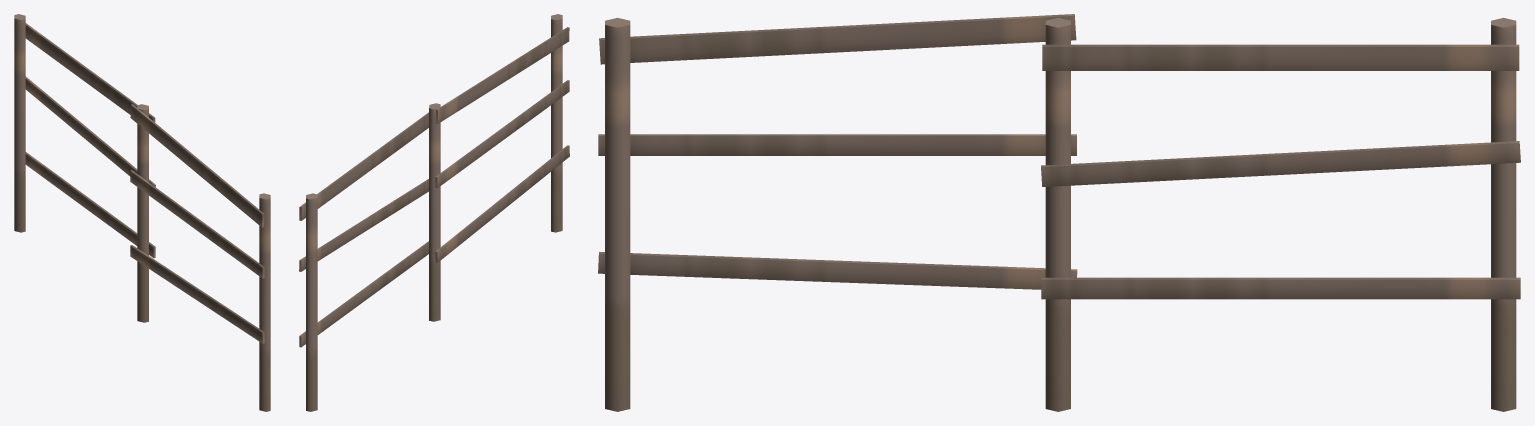
Rendered from WoodFence01b.fbx.
3 renders of one model, left to right at view 1: azimuth 30°, elevation 25°; view 2: azimuth 150°, elevation 25°; view 3: azimuth 270°, elevation 25°, orthographic. The views are drawn at different scales.
Visible parts, largest first — view 1: WoodFence01b; view 2: WoodFence01b; view 3: WoodFence01b.
Boxes of the visible parts, x1,y1,x2,y2 form: WoodFence01b: (14, 14, 270, 411); WoodFence01b: (299, 14, 569, 411); WoodFence01b: (598, 14, 1520, 411).
Size of the model in its own units: 0.09 by 1.17 by 2.54.
